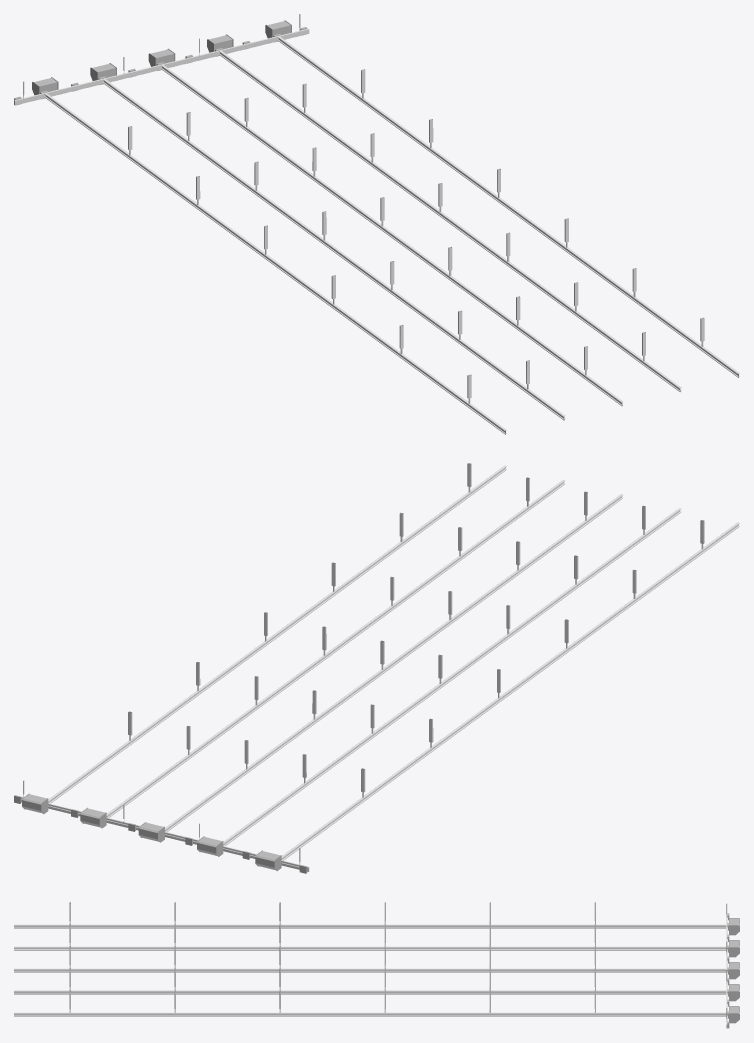
Rendered from SM_ShootingRange_mechanism.fbx.
The picture shows the model from 3 angles, top to bottom: view 1: azimuth 30°, elevation 25°; view 2: azimuth 150°, elevation 25°; view 3: azimuth 270°, elevation 25°; orthographic projection. The views are drawn at different scales.
Visible parts, largest first — view 1: SM_ShootingRange_mechanism_LOD0; view 2: SM_ShootingRange_mechanism_LOD0; view 3: SM_ShootingRange_mechanism_LOD0.
Boxes of the visible parts, x1,y1,x2,y2 form: SM_ShootingRange_mechanism_LOD0: (14,14,739,434); SM_ShootingRange_mechanism_LOD0: (14,463,739,873); SM_ShootingRange_mechanism_LOD0: (14,902,739,1028).
Bounding box in the file's own units: 980 × 2703 × 110.
